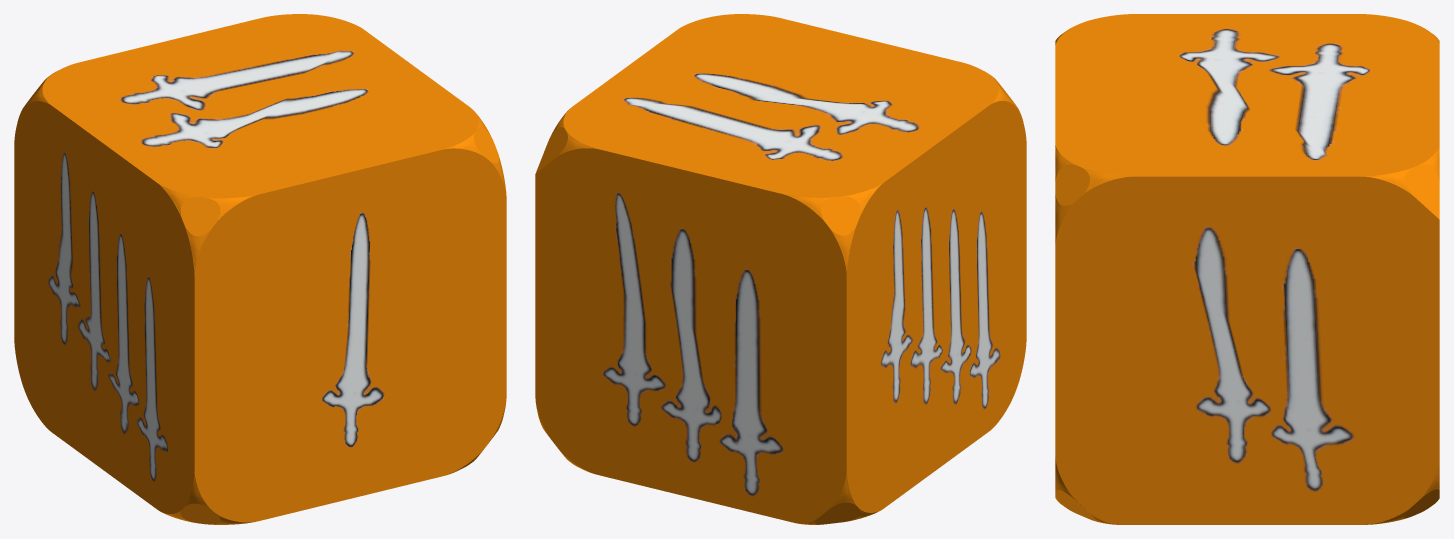
The model's file is orange_dice.fbx.
3 views of the same model, side by side, from view 1: azimuth 30°, elevation 25°; view 2: azimuth 150°, elevation 25°; view 3: azimuth 270°, elevation 25° (orthographic). The views are drawn at different scales.
Visible parts, largest first — view 1: Cube; view 2: Cube; view 3: Cube.
Part boxes in pixels (x1,y1,x2,y2): Cube: (14,14,506,524); Cube: (535,14,1026,524); Cube: (1055,14,1439,524).
Size of the model in its own units: 200 by 200 by 200.
